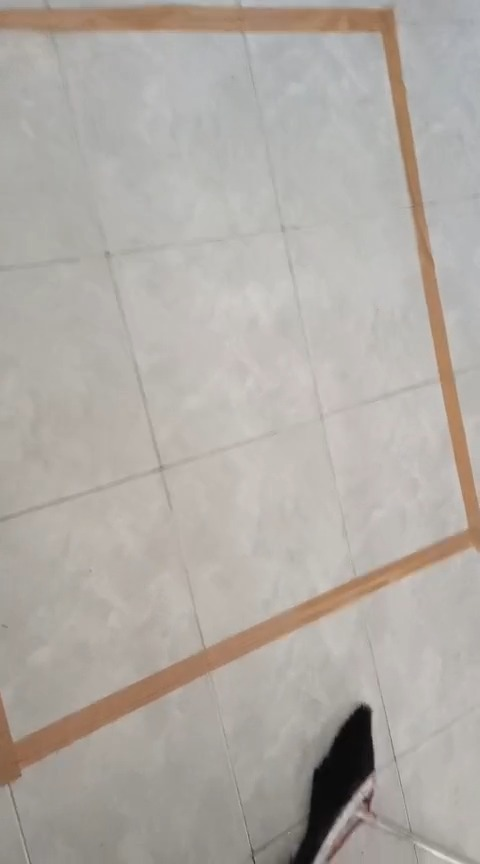floor marking: (0, 5, 479, 782)
